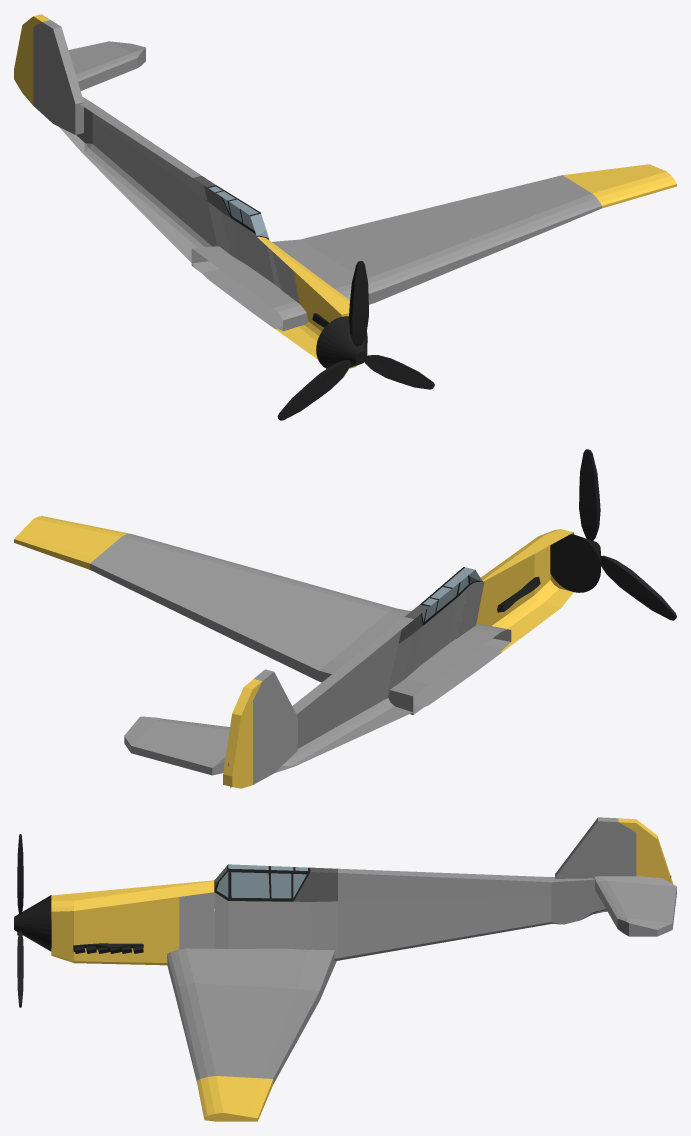
The picture shows the model from 3 angles, top to bottom: view 1: azimuth 30°, elevation 25°; view 2: azimuth 150°, elevation 25°; view 3: azimuth 270°, elevation 25°; orthographic projection. The views are drawn at different scales.
Parts seen in each view (by area): view 1: Cube.001, Cube, Cube.003, Cylinder, Cube.002, Cone; view 2: Cube.001, Cube, Cube.003, Cube.002, Cylinder, Cone; view 3: Cube, Cube.001, Cube.003, Cube.002, Cone, Cylinder, Cube.004.
Boxes of the visible parts, bbox=[...] form: Cube.001: bbox=[191, 164, 676, 331]; Cube: bbox=[59, 97, 357, 368]; Cube.003: bbox=[14, 14, 83, 134]; Cylinder: bbox=[277, 261, 434, 420]; Cube.002: bbox=[68, 41, 145, 90]; Cone: bbox=[316, 316, 367, 368]; Cube.001: bbox=[14, 516, 511, 714]; Cube: bbox=[228, 529, 573, 787]; Cube.003: bbox=[223, 669, 297, 788]; Cube.002: bbox=[124, 716, 229, 775]; Cylinder: bbox=[579, 449, 676, 620]; Cone: bbox=[550, 534, 600, 592]; Cube: bbox=[51, 864, 671, 965]; Cube.001: bbox=[167, 948, 336, 1121]; Cube.003: bbox=[555, 817, 673, 912]; Cube.002: bbox=[594, 876, 676, 936]; Cone: bbox=[14, 895, 51, 951]; Cylinder: bbox=[17, 834, 23, 1007]; Cube.004: bbox=[73, 943, 143, 953].
Bounding box in the file's own units: 4.01 × 1.23 × 4.84.
Materials: 1 (1 with a texture image).
